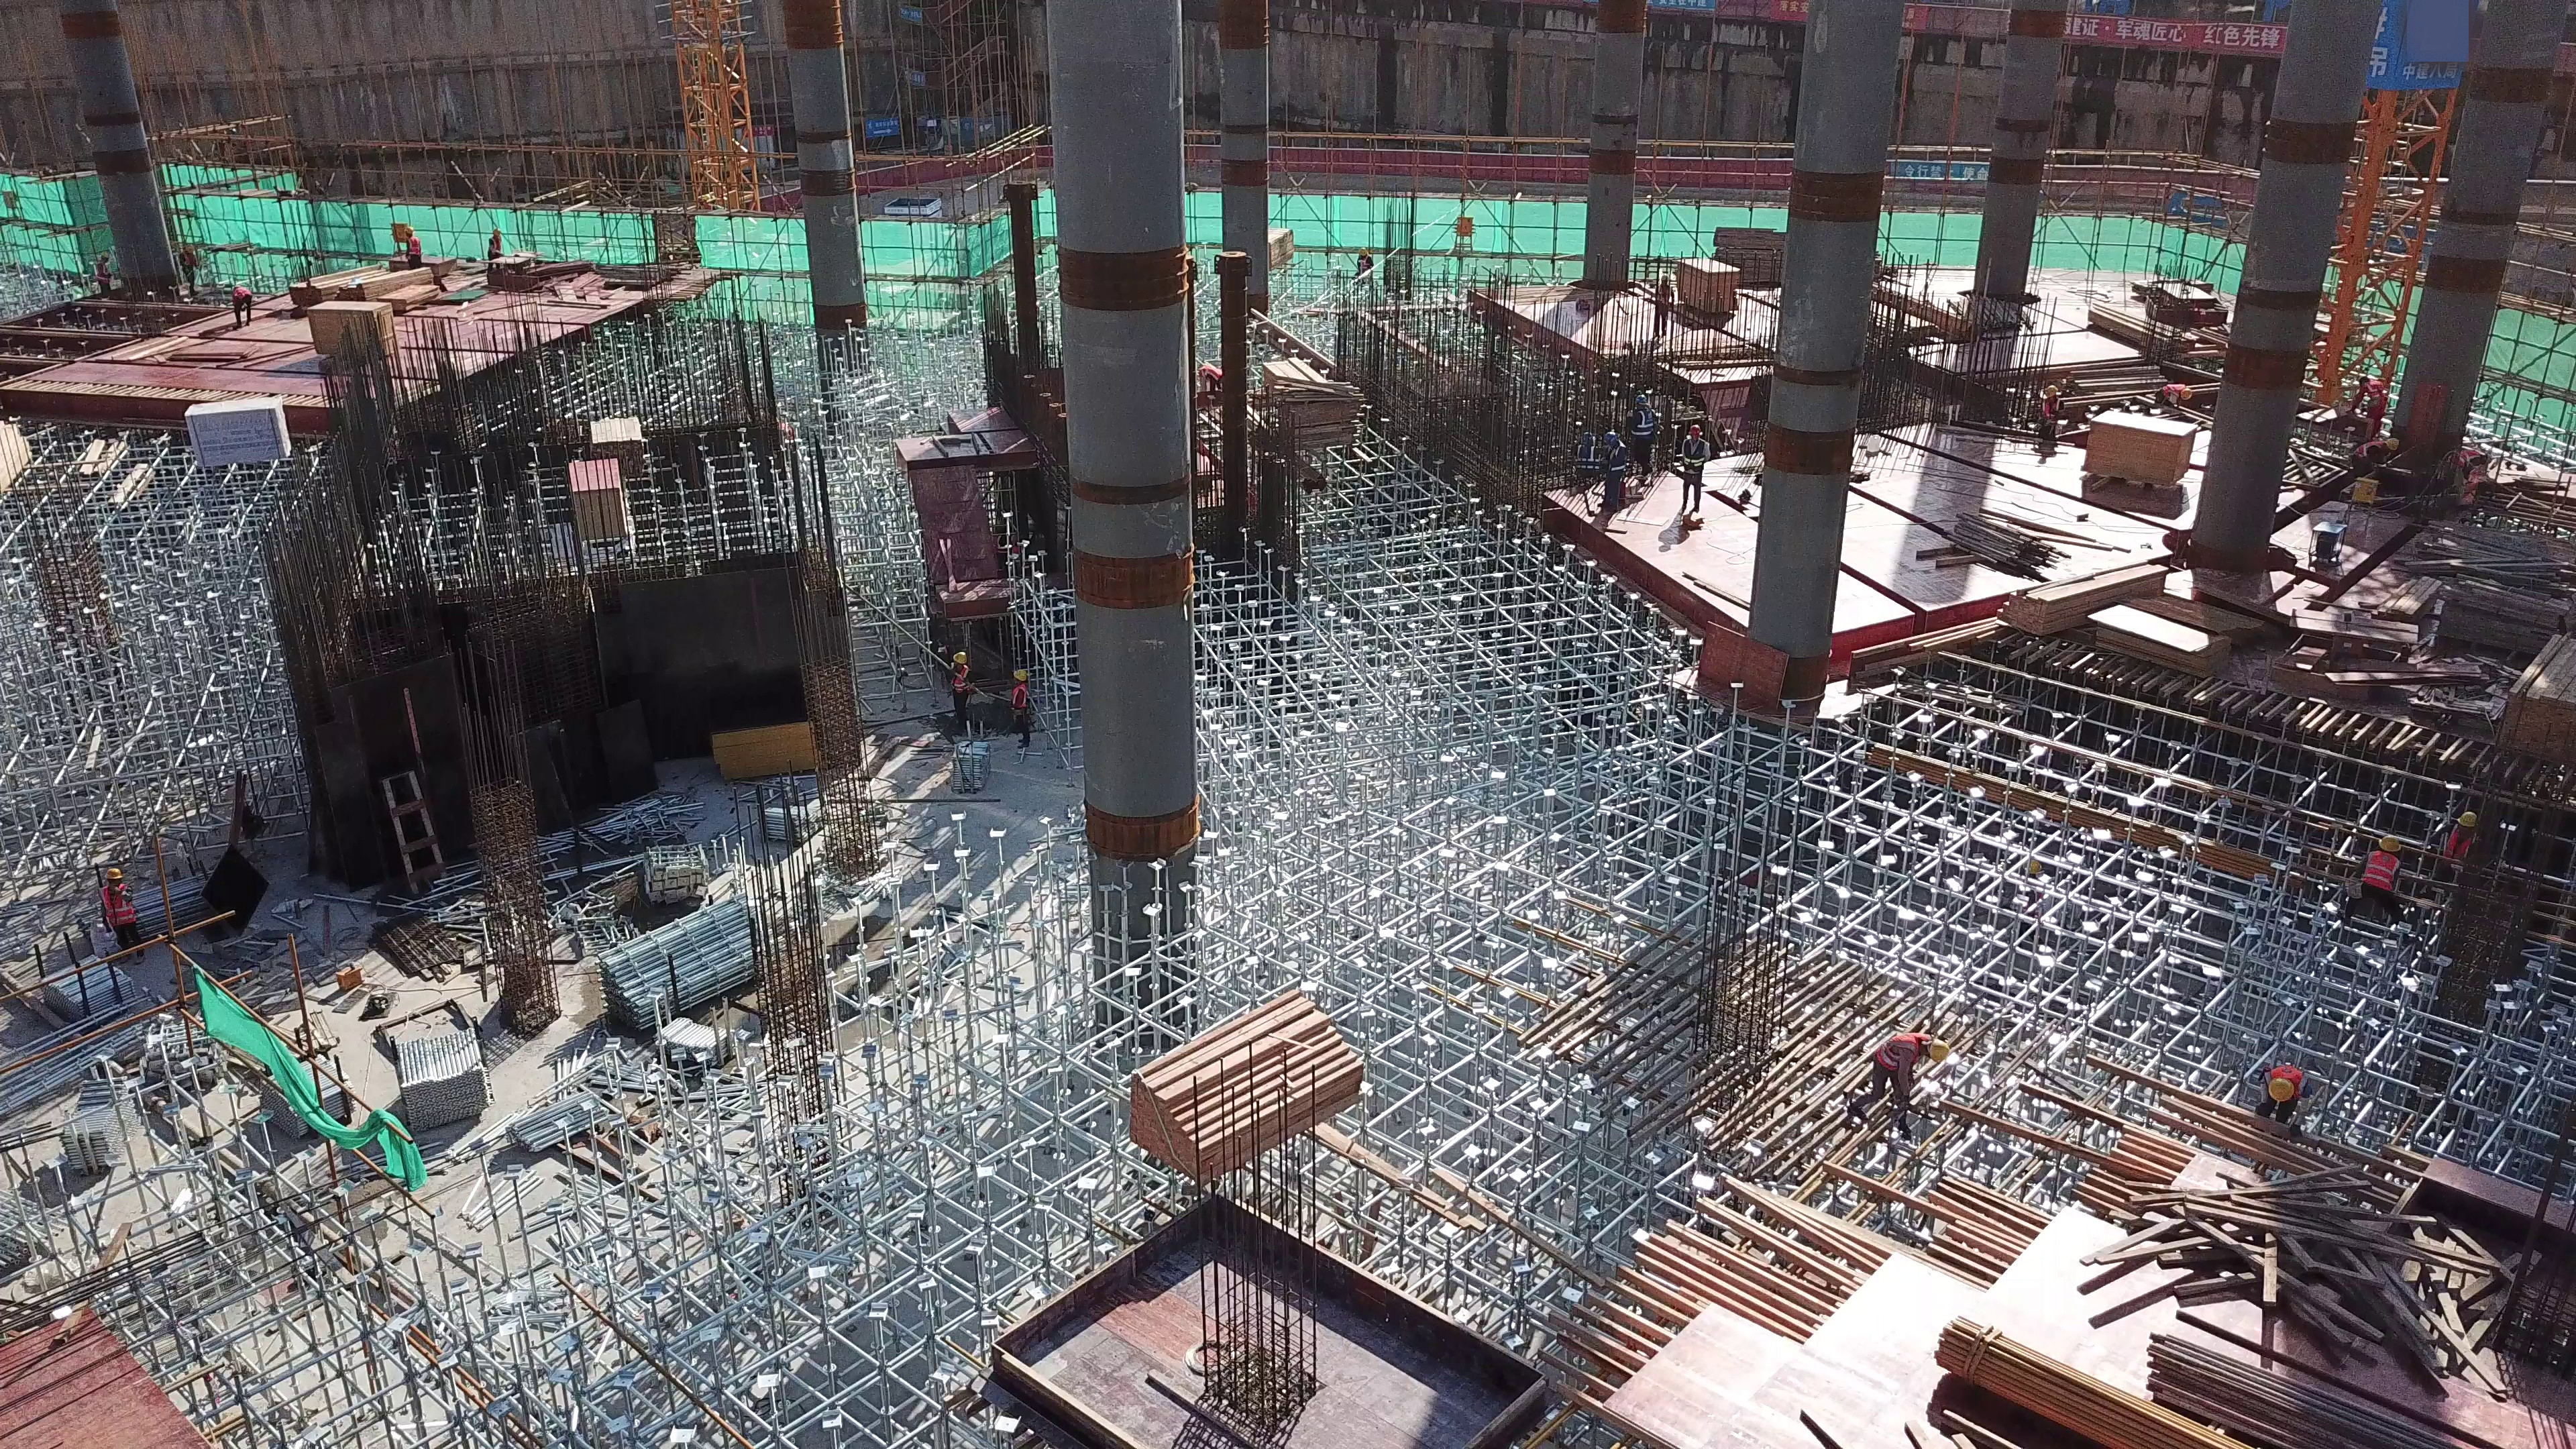board: (575, 462, 623, 534)
ebox: (2350, 477, 2376, 517)
helmet: (2263, 1081, 2294, 1106), (2374, 833, 2402, 853), (1930, 1038, 1950, 1062), (103, 867, 125, 884), (951, 651, 970, 668), (2459, 812, 2477, 827), (2387, 433, 2401, 451), (1603, 432, 1618, 445), (1012, 667, 1026, 684), (2044, 384, 2057, 396), (1633, 395, 1646, 405), (2180, 388, 2191, 400), (1688, 425, 1699, 435)
person: (1846, 1032, 1947, 1136), (91, 871, 140, 965), (2353, 835, 2404, 918), (2249, 1067, 2314, 1124), (2440, 810, 2485, 890), (1679, 425, 1713, 522), (1629, 394, 1661, 485), (1004, 664, 1037, 745), (939, 645, 975, 720), (2345, 430, 2403, 472), (2354, 377, 2387, 443), (1602, 432, 1625, 515), (1570, 436, 1598, 490), (2149, 378, 2195, 410), (2037, 382, 2060, 444), (227, 284, 255, 327), (1199, 360, 1226, 394), (402, 229, 421, 269), (486, 225, 503, 258)
scaffold: (590, 900, 767, 1020), (389, 1026, 494, 1134), (54, 1079, 136, 1182), (500, 1081, 617, 1152), (40, 953, 140, 1026), (650, 1018, 747, 1072), (755, 794, 808, 841), (951, 738, 991, 799)
slogan: (2070, 12, 2275, 72)
vest: (1872, 1032, 1924, 1070), (2362, 850, 2396, 899), (101, 885, 133, 926), (2261, 1067, 2302, 1096), (2440, 829, 2473, 863), (2363, 381, 2388, 413), (1682, 439, 1703, 472), (2350, 439, 2384, 459), (952, 667, 973, 698), (2037, 400, 2059, 427), (1603, 447, 1625, 474), (1635, 408, 1656, 434), (1576, 446, 1597, 471), (1012, 684, 1027, 712), (2158, 383, 2182, 400), (229, 286, 248, 303), (405, 238, 419, 257)
wood: (1952, 1304, 2449, 1449), (2147, 1185, 2526, 1352), (1122, 1008, 1389, 1171), (2502, 629, 2576, 748)
